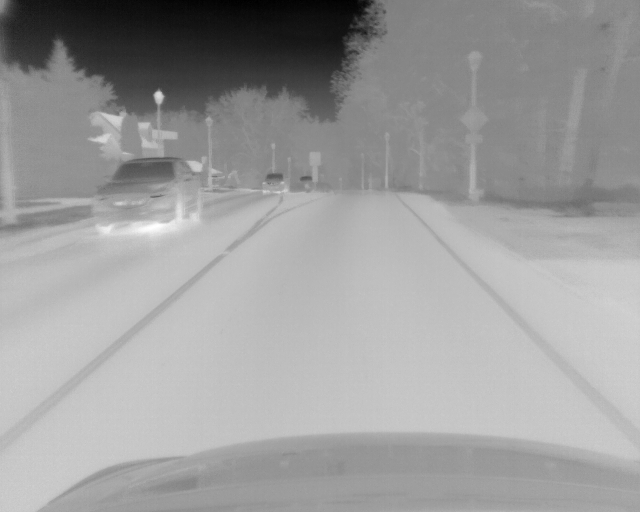car: (94, 157, 201, 233), (262, 173, 287, 195), (298, 175, 315, 193)
